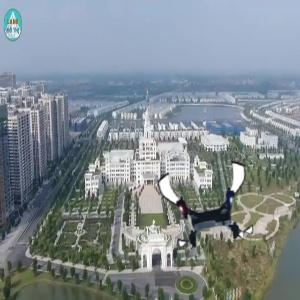drone: (161, 160, 253, 252)
